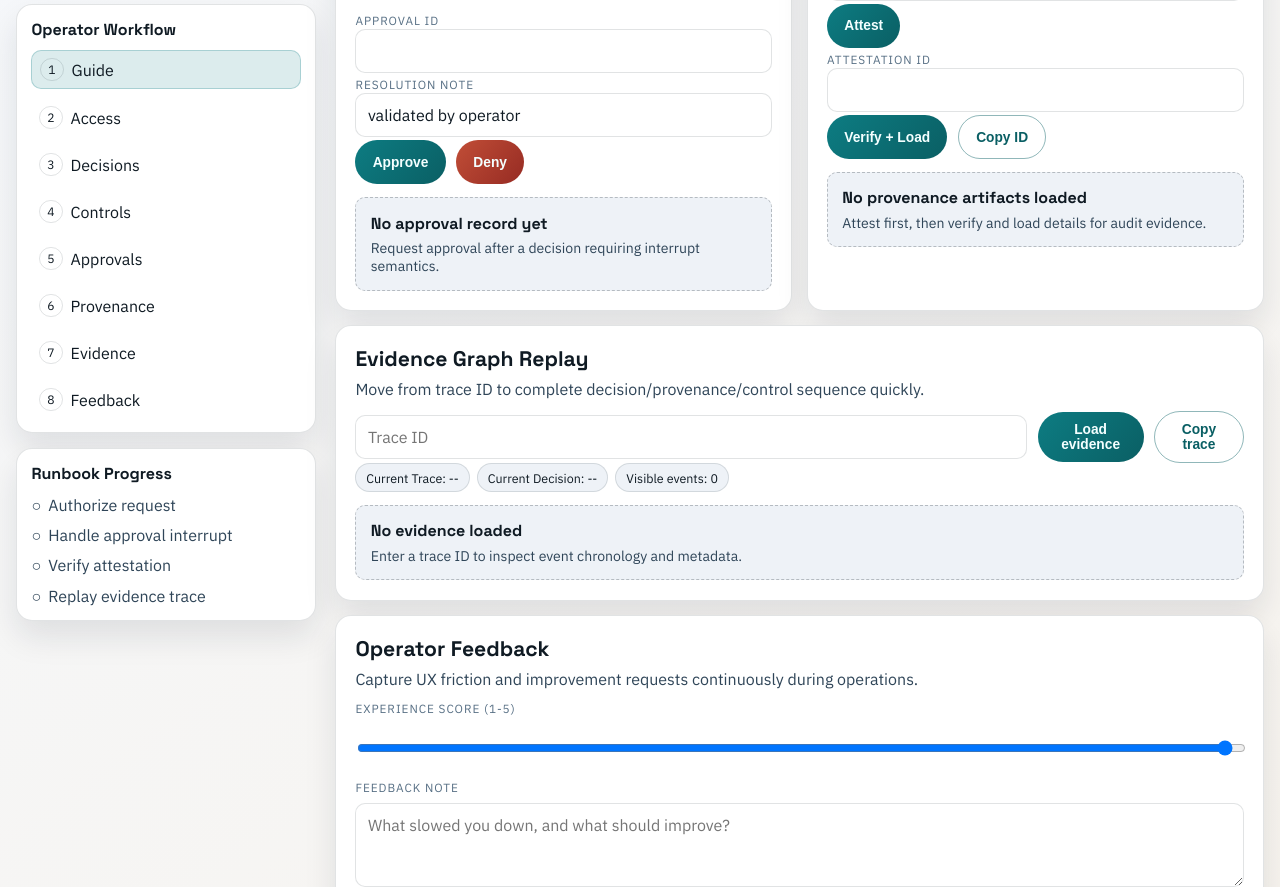
Test case: Mission Control evidence flow › loads evidence and metadata by trace id
(page scrolled)
Type "trace-xyz" into the field with placeholder "Trace ID".
click(691, 437); type("trace-xyz")  # box [355,415,1027,459]
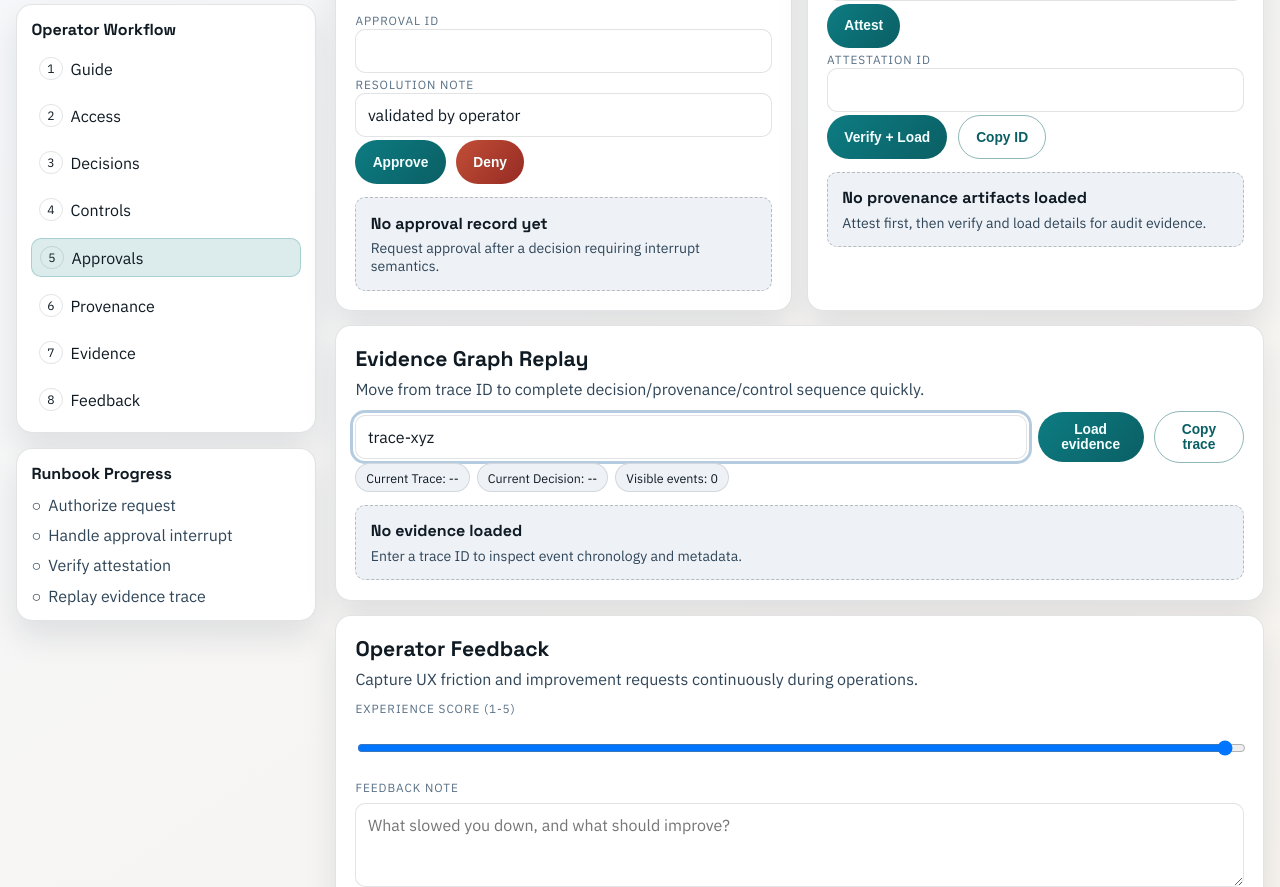
Click the button "Load evidence".
click(1091, 437)  # box [1038,412,1144,462]
(page scrolled)
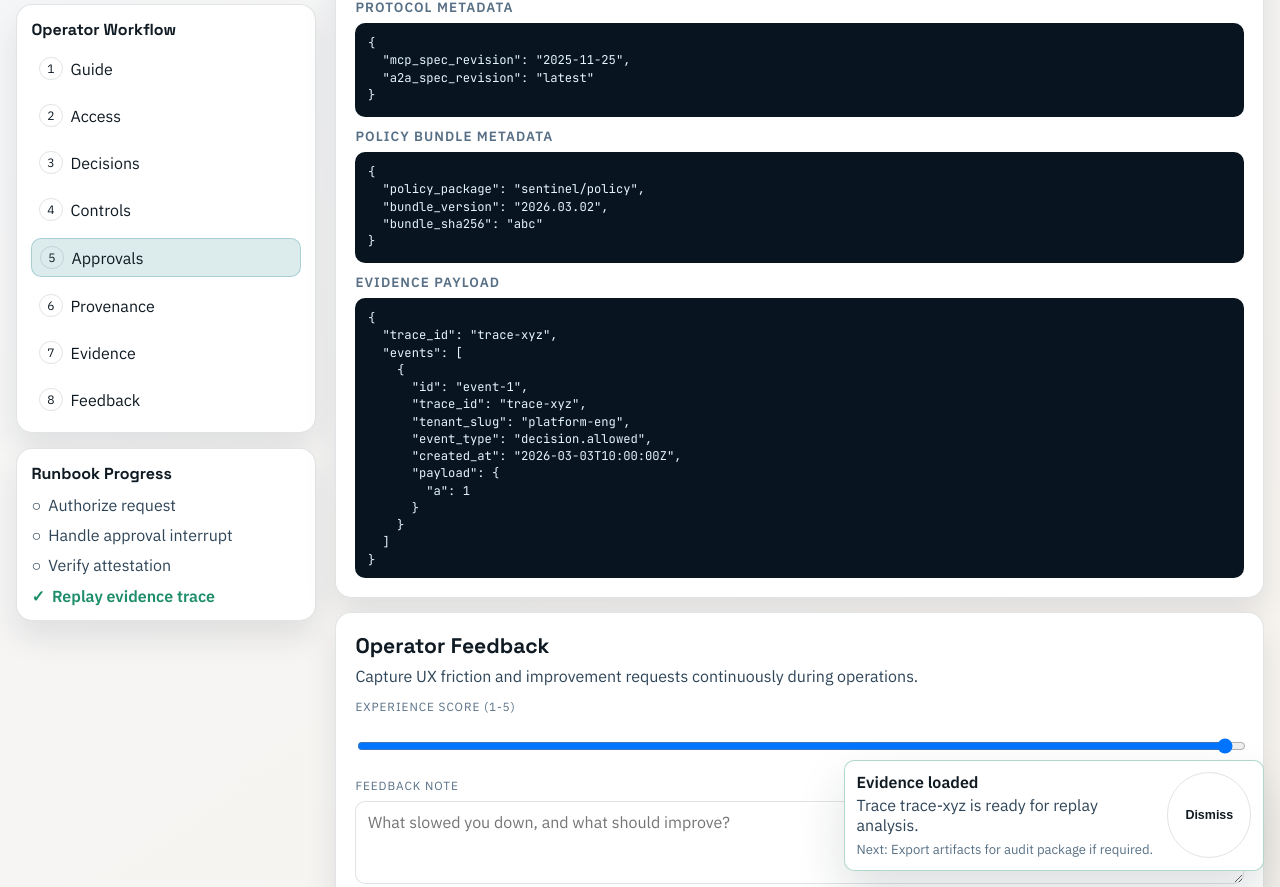
Expected: the text "\"event_type\": \"decision.allowed\"" is shown, [368,310,682,568]
